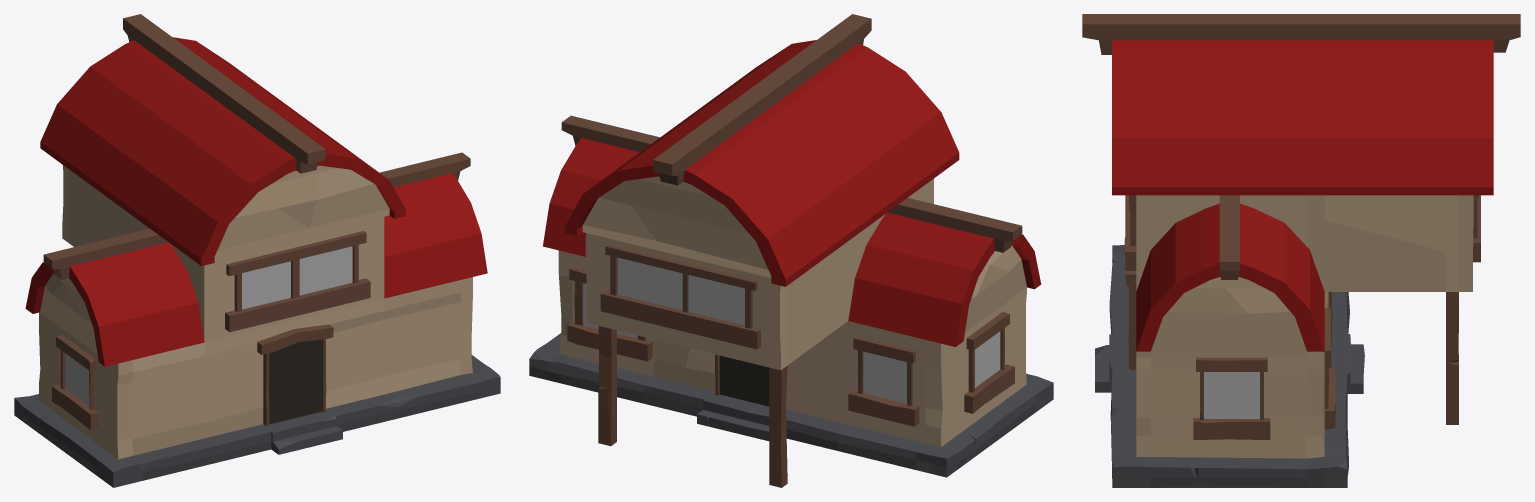
Rendered from building2.fbx.
3 renders of one model, left to right at view 1: azimuth 30°, elevation 25°; view 2: azimuth 150°, elevation 25°; view 3: azimuth 270°, elevation 25°, orthographic. The views are drawn at different scales.
Parts seen in each view (by area): view 1: Cube.001; view 2: Cube.001; view 3: Cube.001.
Part boxes in pixels (bbox=[...]): Cube.001: bbox=[14, 14, 500, 487]; Cube.001: bbox=[529, 14, 1053, 487]; Cube.001: bbox=[1082, 14, 1520, 487].
Bounding box in the file's own units: 15303 × 10497 × 11707.
